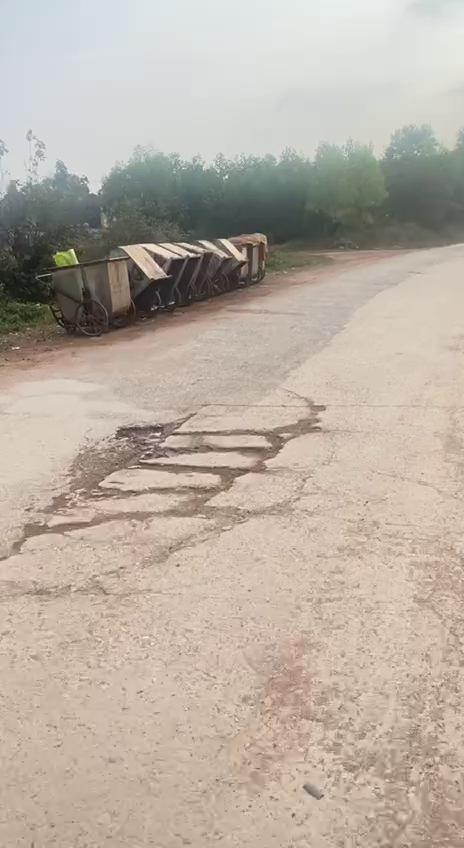pothole: (7, 398, 332, 542)
